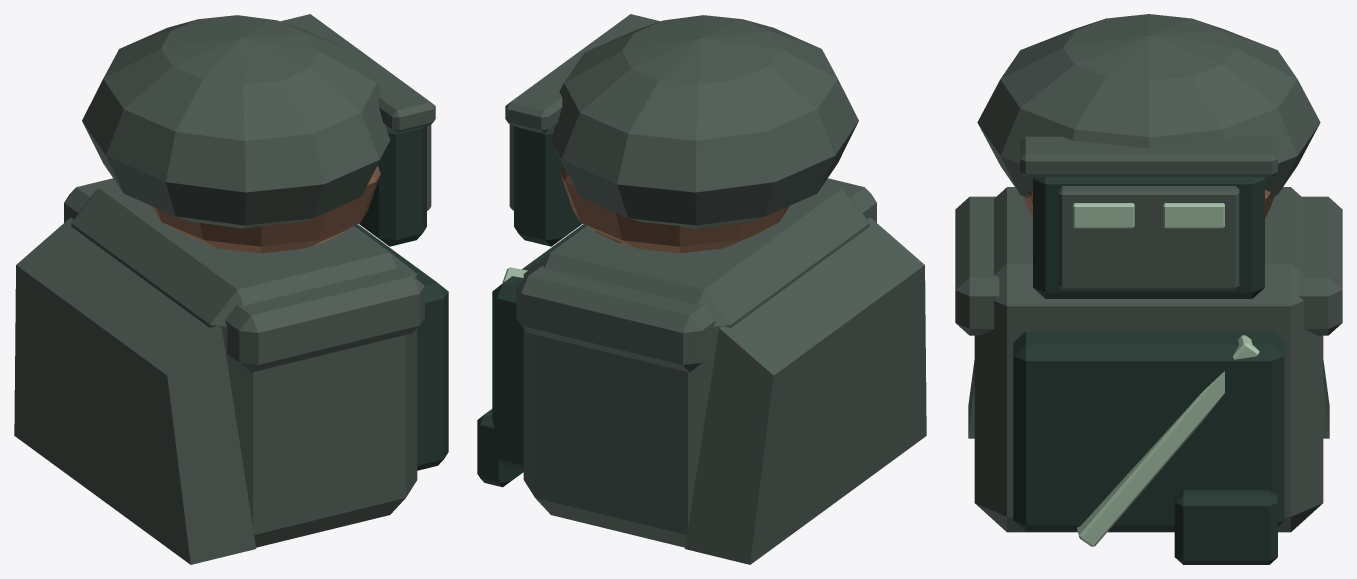
File: specter.signature.glb
The picture shows the model from 3 angles, left to right: view 1: azimuth 30°, elevation 25°; view 2: azimuth 150°, elevation 25°; view 3: azimuth 270°, elevation 25°; orthographic projection. The views are drawn at different scales.
Parts seen in each view (by area): view 1: specter_signature__main__torso, specter_signature__main__head; view 2: specter_signature__main__torso, specter_signature__main__head; view 3: specter_signature__main__torso, specter_signature__main__head.
Boxes of the visible parts, bbox=[...] form: specter_signature__main__torso: bbox=[14, 178, 448, 564]; specter_signature__main__head: bbox=[82, 14, 435, 253]; specter_signature__main__torso: bbox=[477, 178, 926, 564]; specter_signature__main__head: bbox=[505, 14, 858, 253]; specter_signature__main__torso: bbox=[955, 187, 1342, 564]; specter_signature__main__head: bbox=[977, 14, 1320, 298].
Bounding box in the file's own units: 28.7 × 39 × 30.
